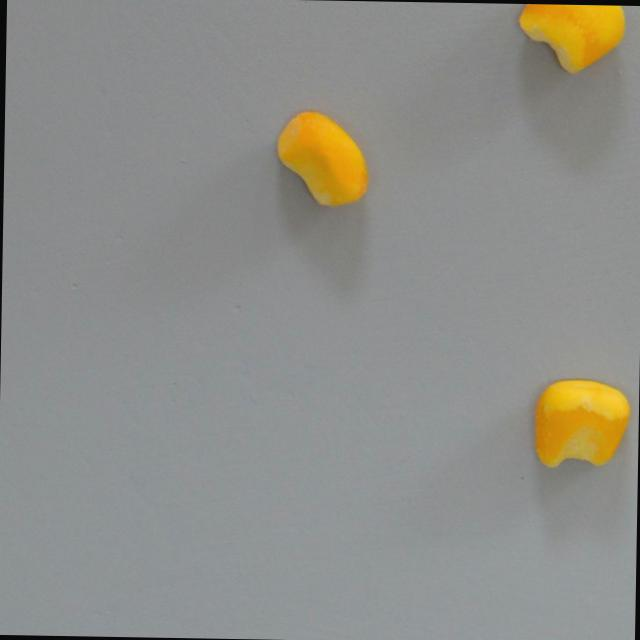no_canjicado: (272, 109, 371, 210), (516, 3, 627, 75)
pelicula: (534, 380, 630, 471)
